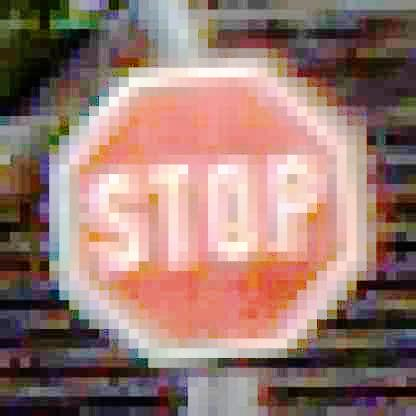Stop Sign: (46, 64, 365, 365)
